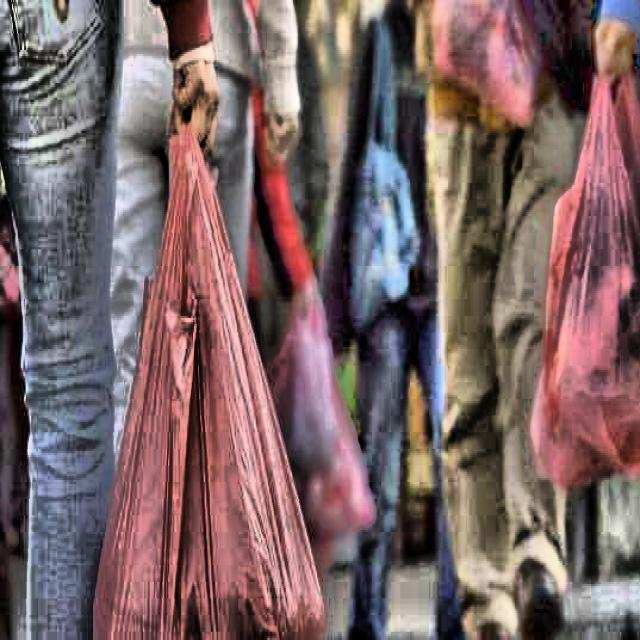Plastic: (91, 118, 343, 640), (526, 55, 640, 493), (268, 303, 382, 545)
